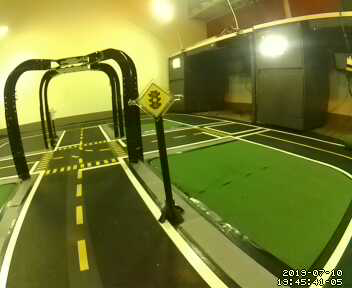Traffic light sign: (137, 81, 174, 119)
